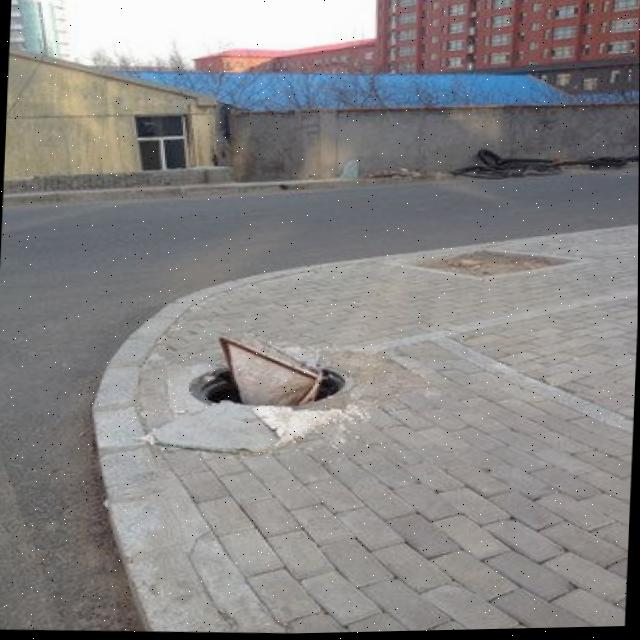manhole: (184, 341, 361, 421)
